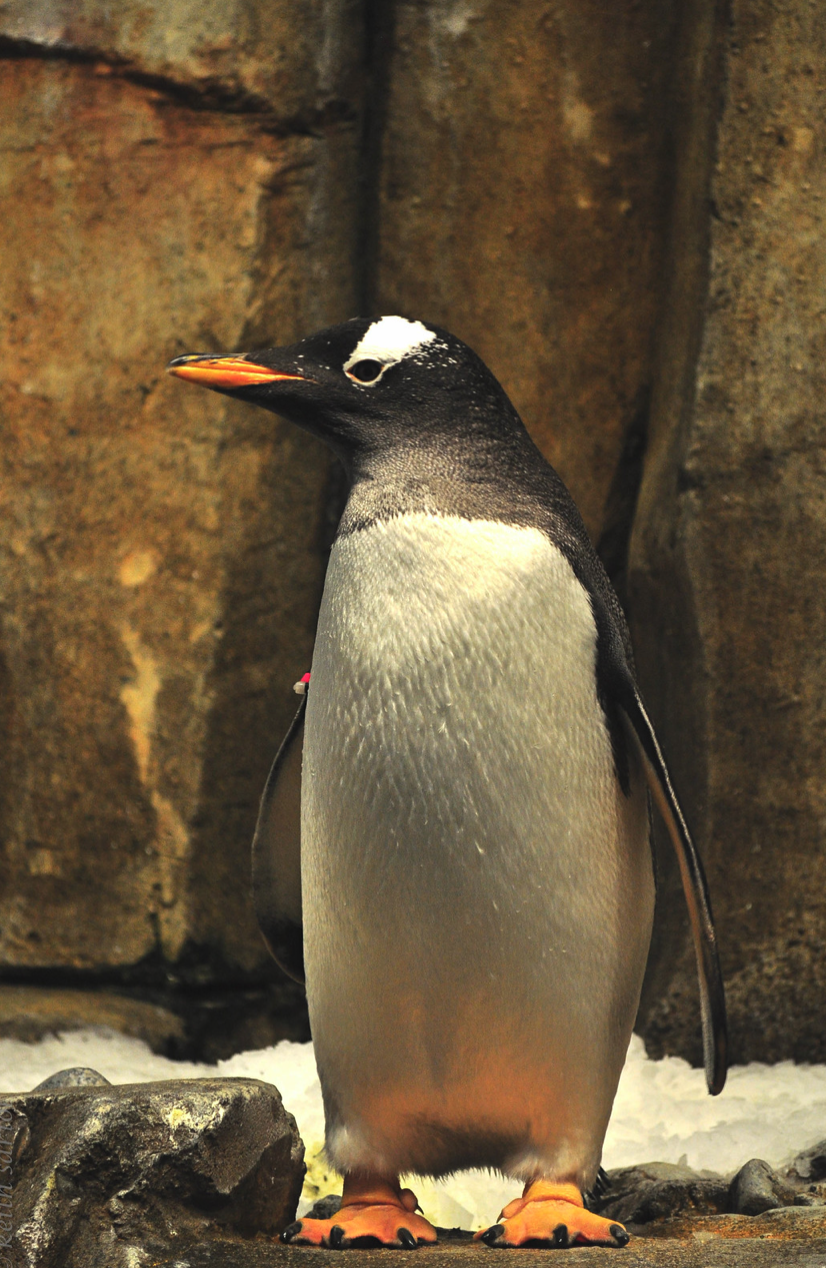penguin: (159, 308, 736, 1232)
